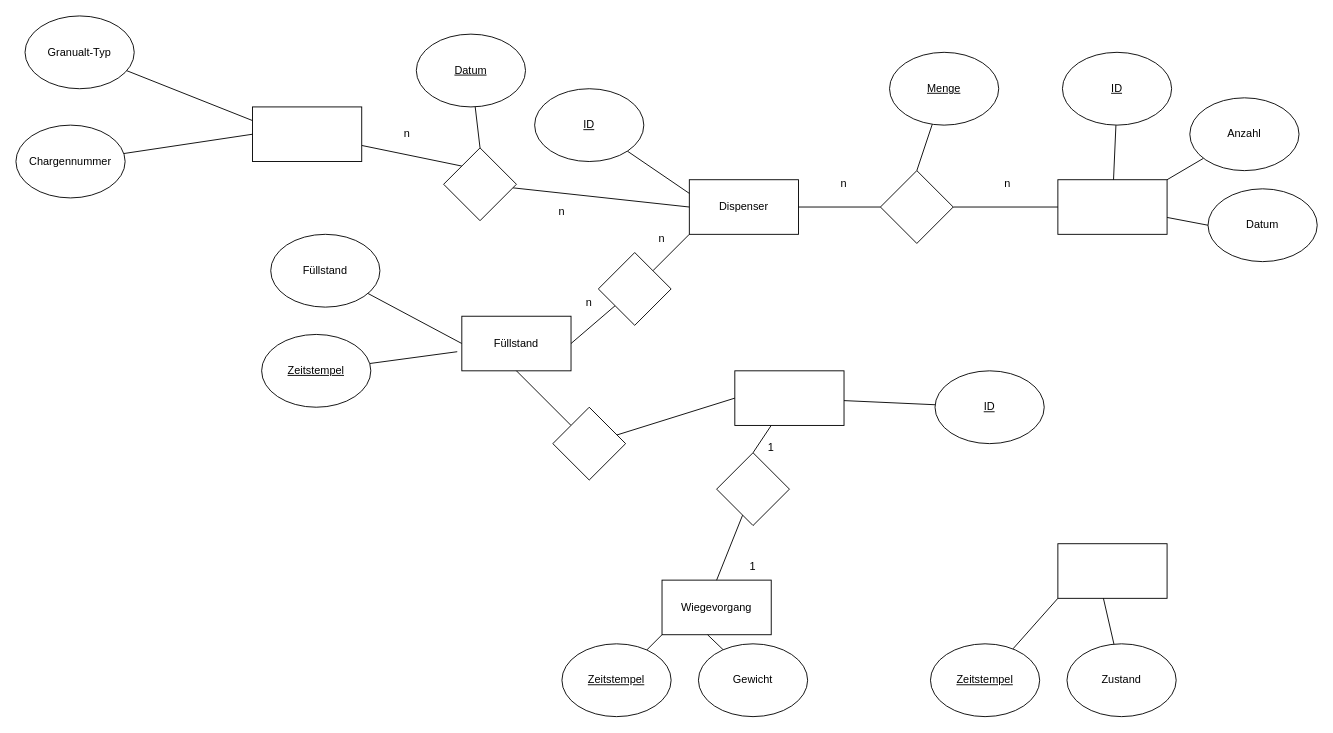
Image size: 1333x733. Some labels were removed from this diagram. Here are the shapes that lost their labels. From the top down, the centre of each, then its label:
At point 307,134: "Auffüllvorgang".
At point 479,184: "wird gefüllt".
At point 916,206: "legt fest".
At point 1112,206: "Rezept".
At point 634,288: "hat".
At point 789,397: "Behälter".
At point 589,443: "füllt".
At point 752,489: "kann".
At point 1112,570: "Lichtschranke".
